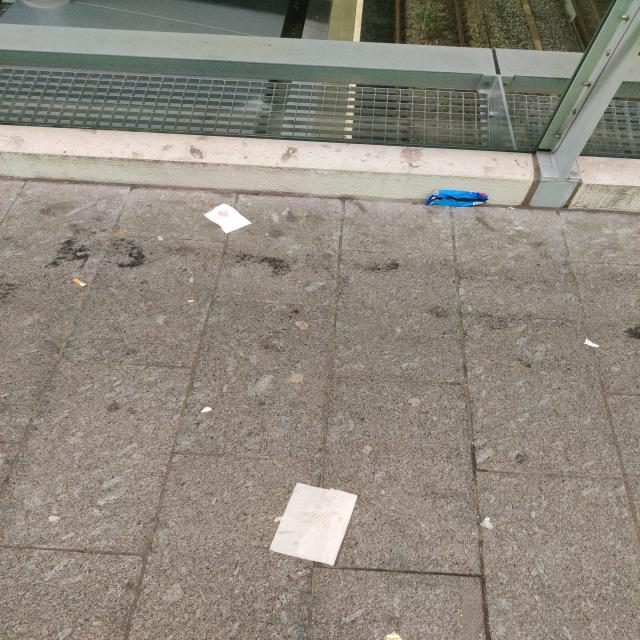litter: (262, 475, 370, 575), (198, 196, 262, 242), (418, 186, 495, 213), (70, 274, 90, 290)
